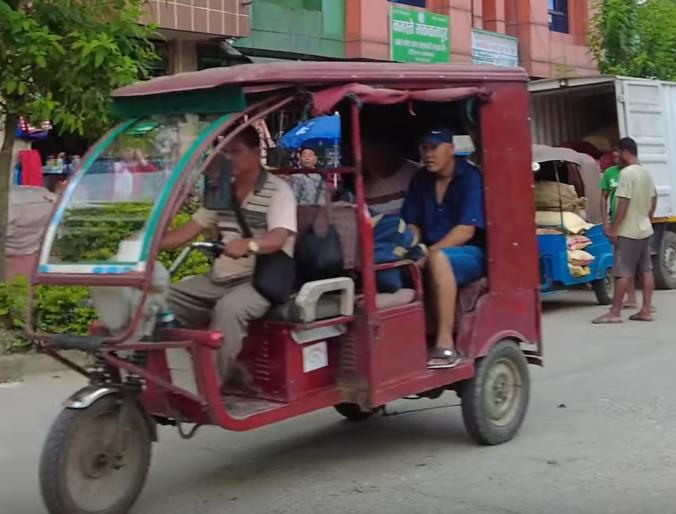e-rickshaw: (20, 44, 548, 514)
